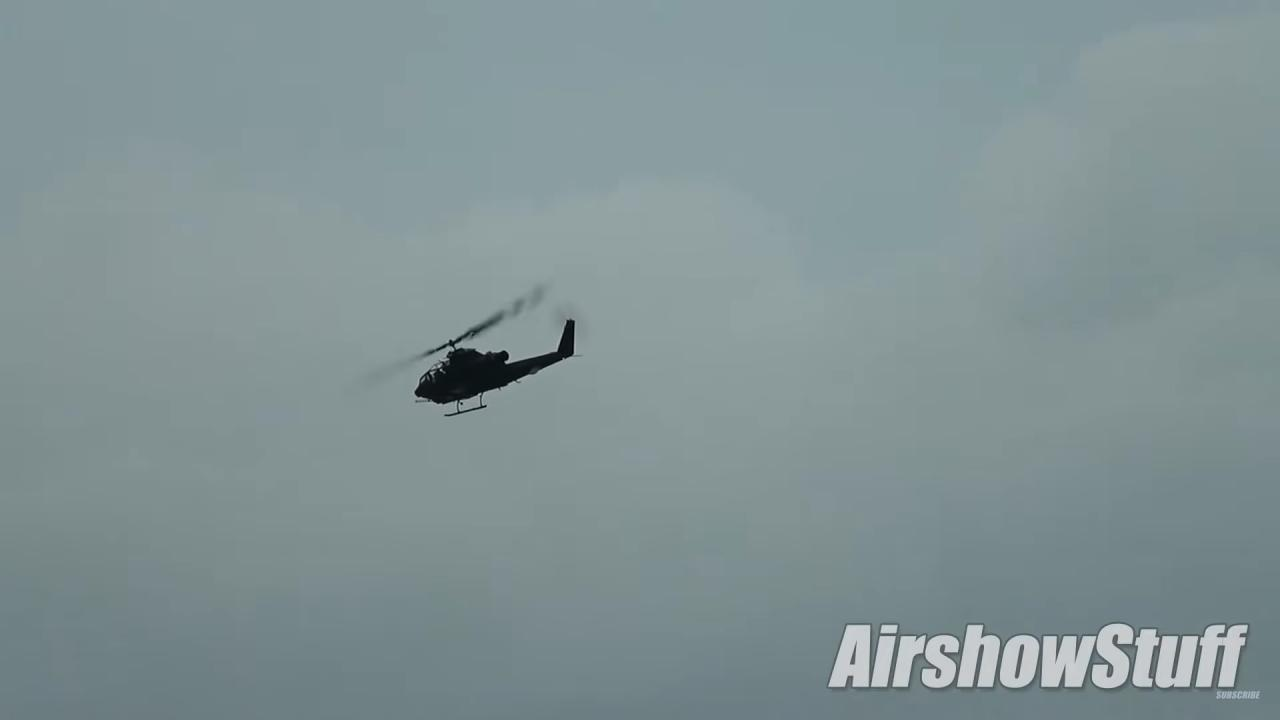Helicopter: (328, 267, 620, 457)
